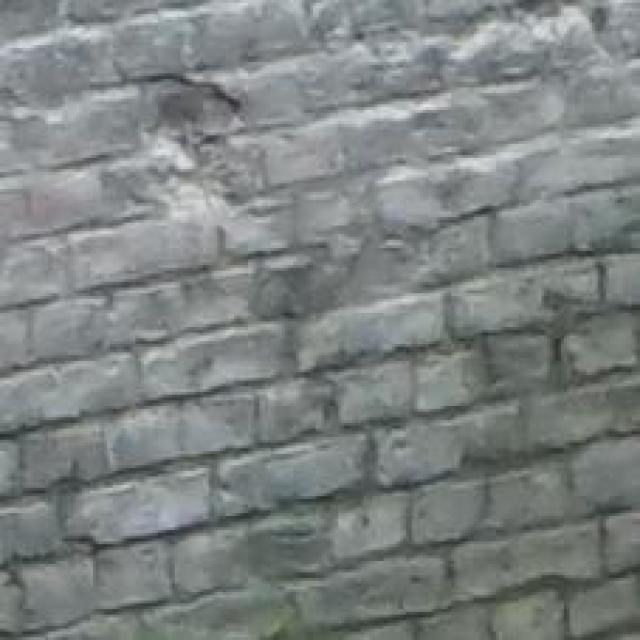Crack: (75, 45, 423, 496)
